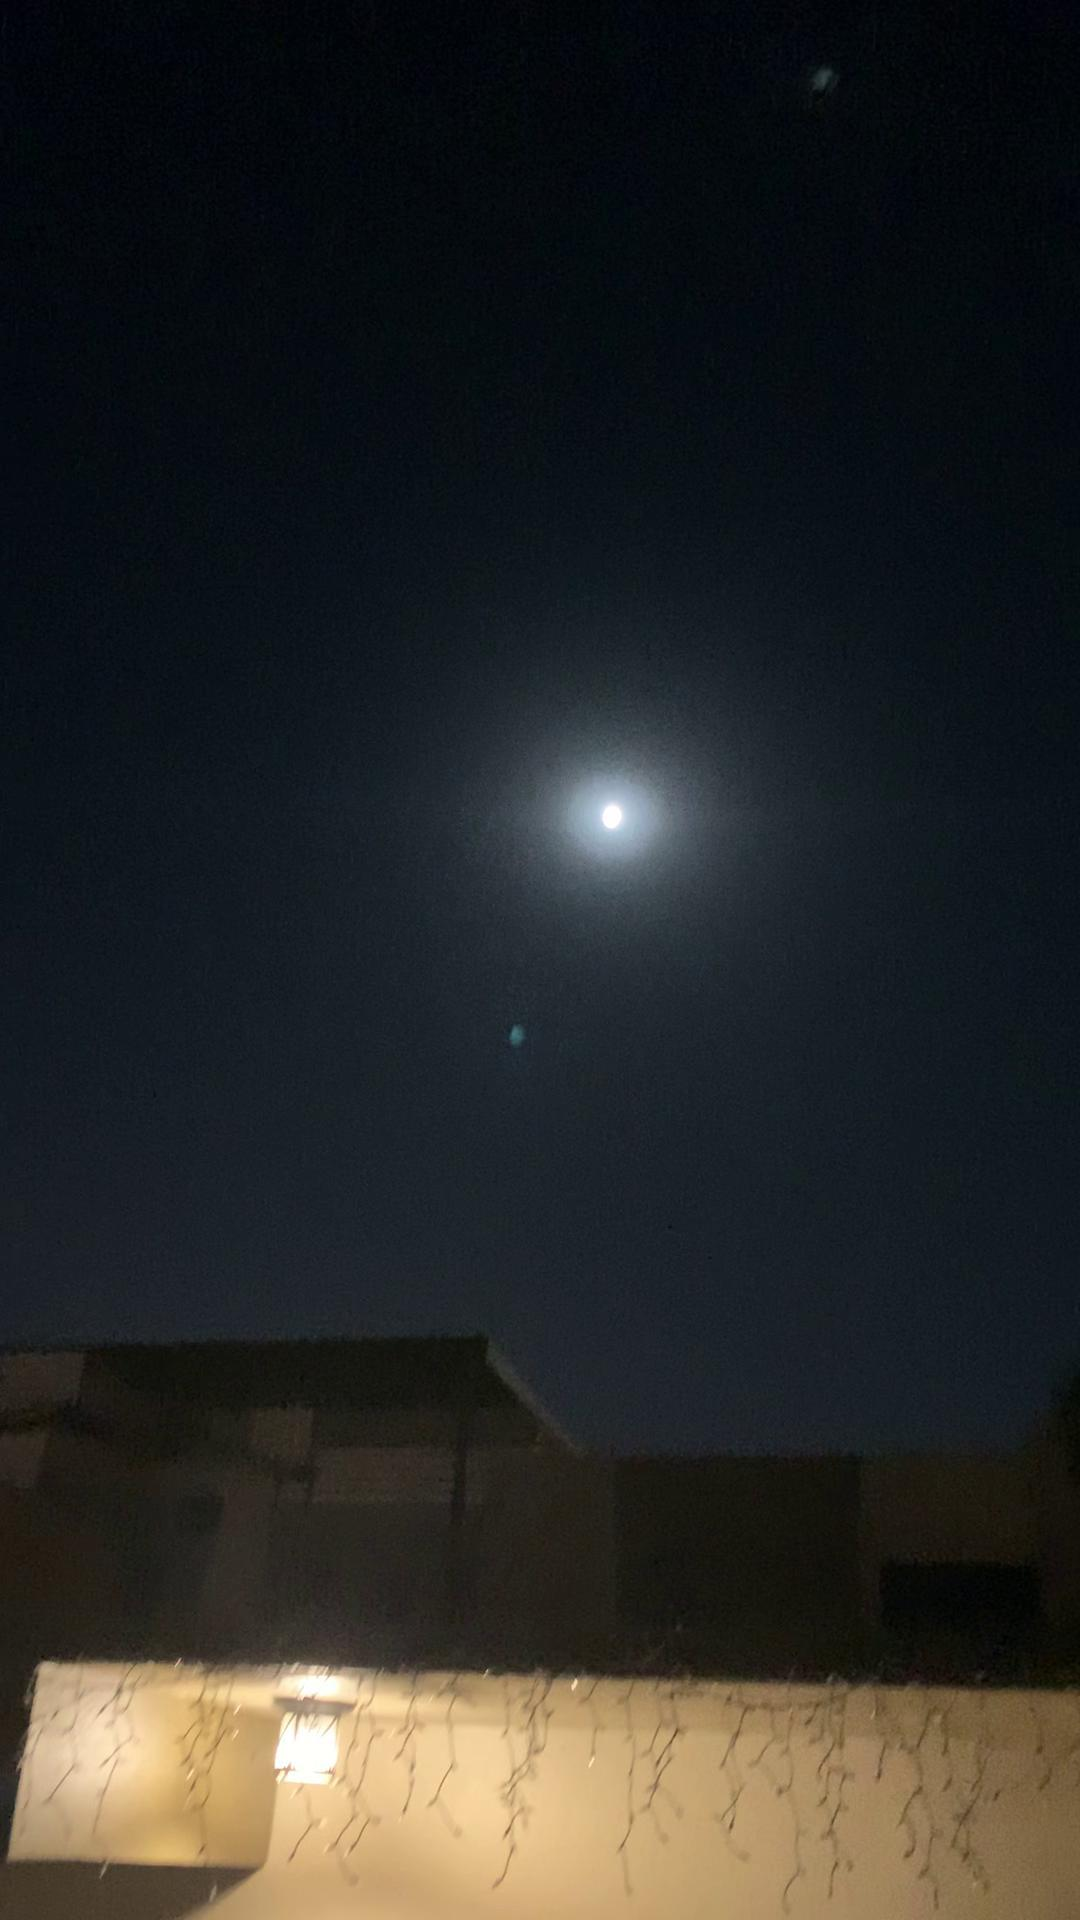moon: (566, 779, 653, 858)
